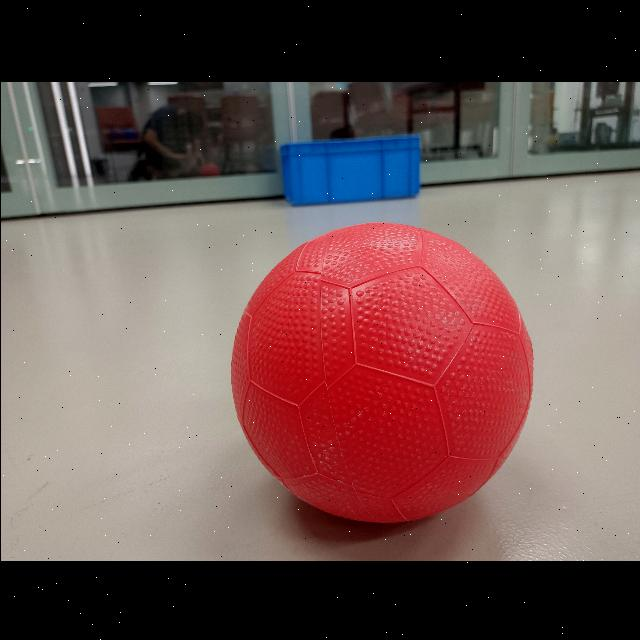R: (228, 222, 534, 526)
